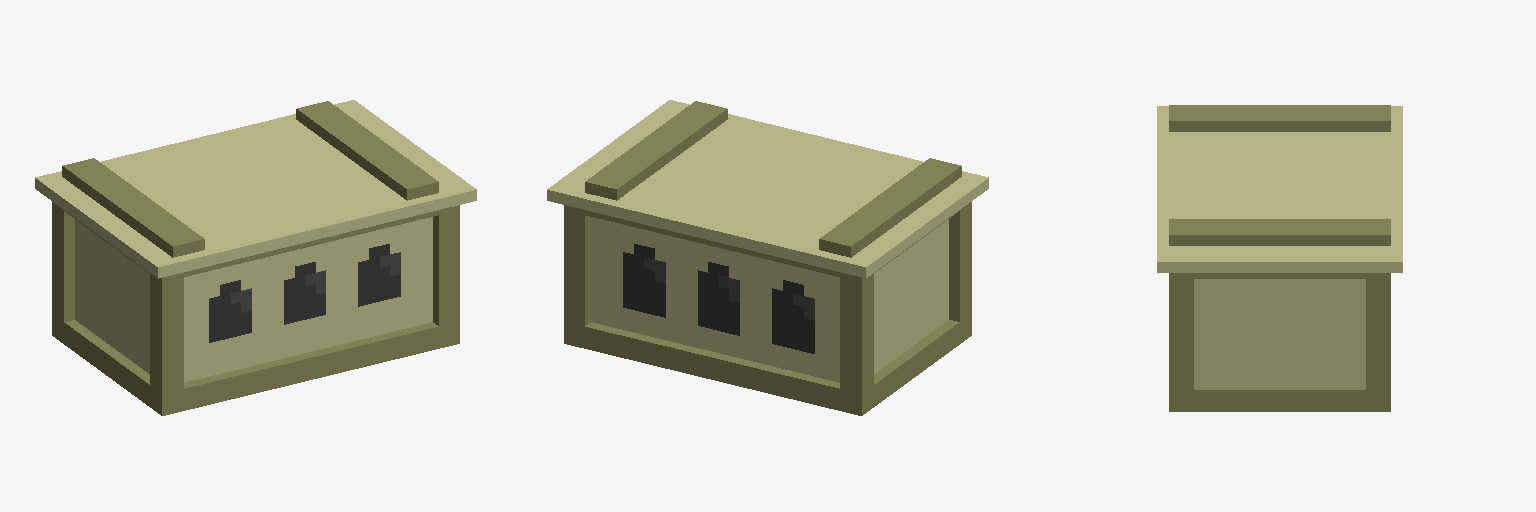
3 views of the same model, side by side, from view 1: azimuth 30°, elevation 25°; view 2: azimuth 150°, elevation 25°; view 3: azimuth 270°, elevation 25° (orthographic).
Visible parts, largest first — view 1: object 1; view 2: object 1; view 3: object 1.
Boxes of the visible parts, box(x1,y1,x2,y2) form: object 1: box(35, 100, 476, 415); object 1: box(547, 100, 988, 415); object 1: box(1157, 105, 1402, 411).
Bounding box in the file's own units: 3 × 1.5 × 2.
1 materials, 1 textured.